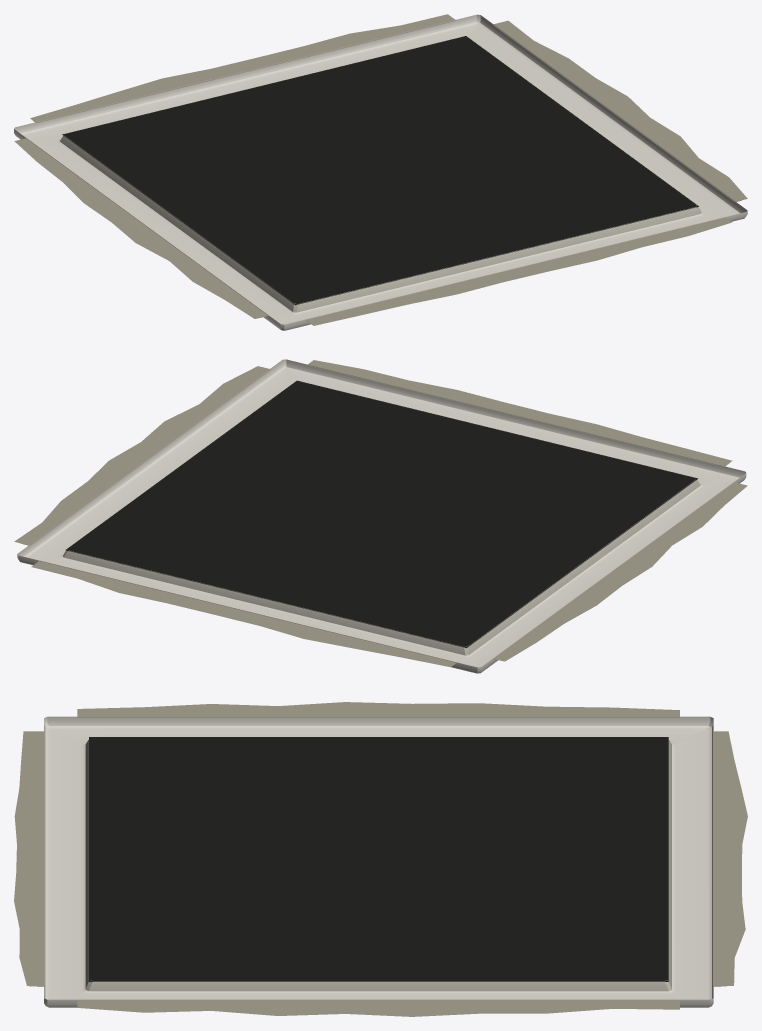
File: ceiling_diffuser@2.glb
3 renders of one model, top to bottom at view 1: azimuth 30°, elevation 25°; view 2: azimuth 150°, elevation 25°; view 3: azimuth 270°, elevation 25°, orthographic. The views are drawn at different scales.
Parts seen in each view (by area): view 1: luftauslass; view 2: luftauslass; view 3: luftauslass.
Boxes of the visible parts, left/top/right/bottom form: luftauslass: left=14, top=14, right=747, bottom=330; luftauslass: left=14, top=359, right=747, bottom=673; luftauslass: left=14, top=702, right=747, bottom=1016.
Size of the model in its own units: 0.6633 by 0.0489 by 0.6533.
